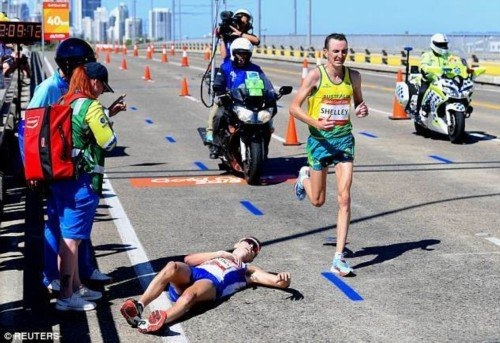falling: (113, 226, 300, 336)
